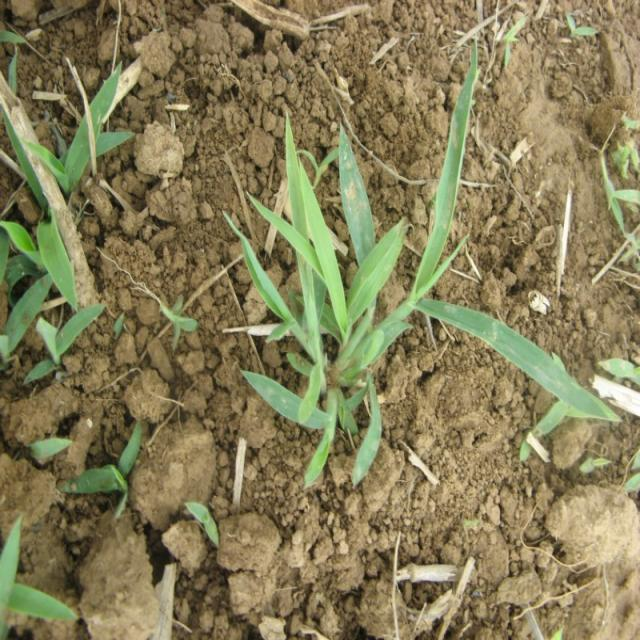bg: (246, 59, 611, 485)
